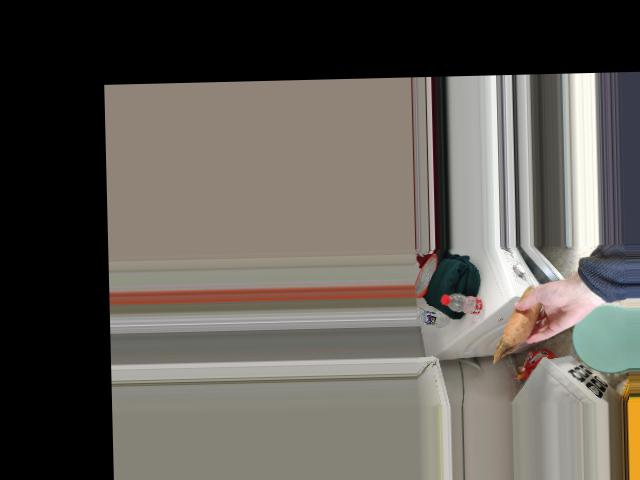sweet_potato: (503, 293, 545, 341)
